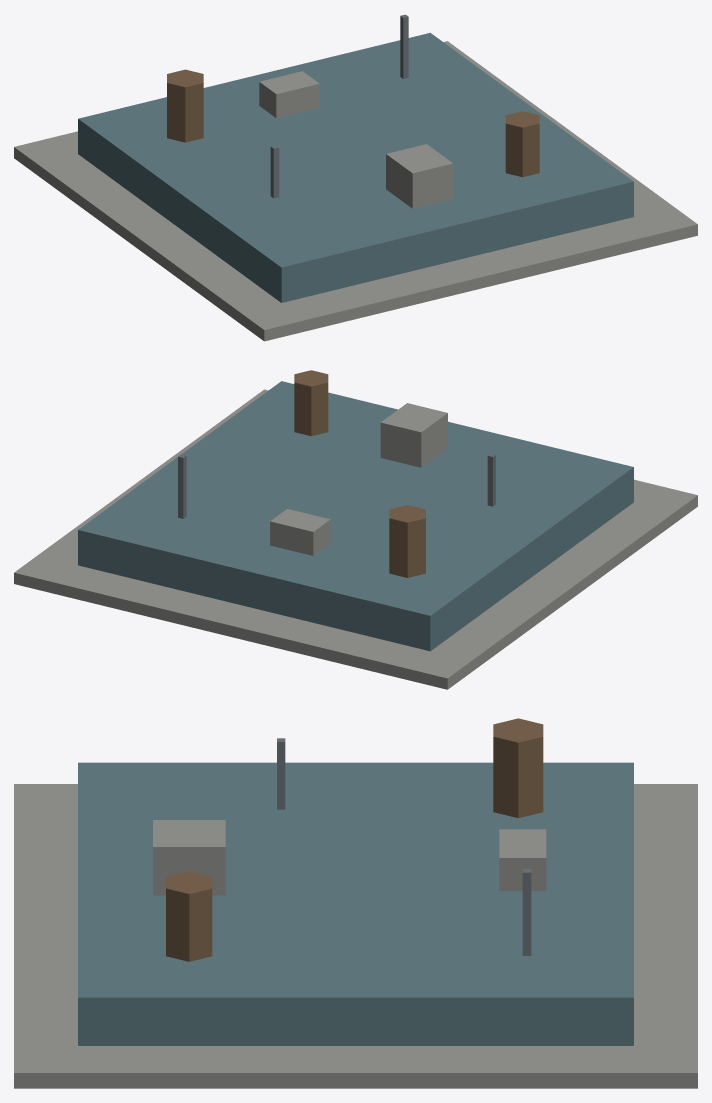
File: tw_glass_32_crown_lod1.glb
3 views of the same model, one above another, from view 1: azimuth 30°, elevation 25°; view 2: azimuth 150°, elevation 25°; view 3: azimuth 270°, elevation 25° (orthographic). The views are drawn at different scales.
Parts seen in each view (by area): view 1: tw_glass_32_crown_lod1; view 2: tw_glass_32_crown_lod1; view 3: tw_glass_32_crown_lod1.
Part boxes in pixels (<box>): tw_glass_32_crown_lod1: <box>14,14,697,341</box>; tw_glass_32_crown_lod1: <box>14,370,697,689</box>; tw_glass_32_crown_lod1: <box>14,718,697,1088</box>.
Bounding box in the file's own units: 32 × 7.6 × 32.
3 materials, 3 textured.
